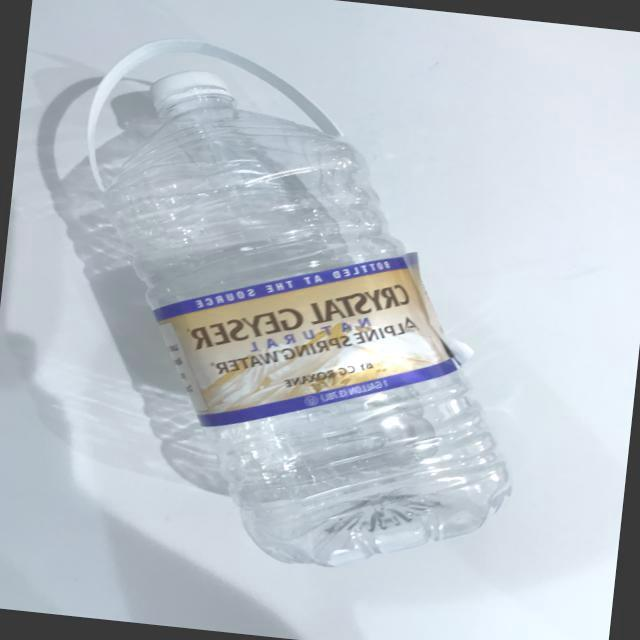plastic: (0, 0, 601, 601)
